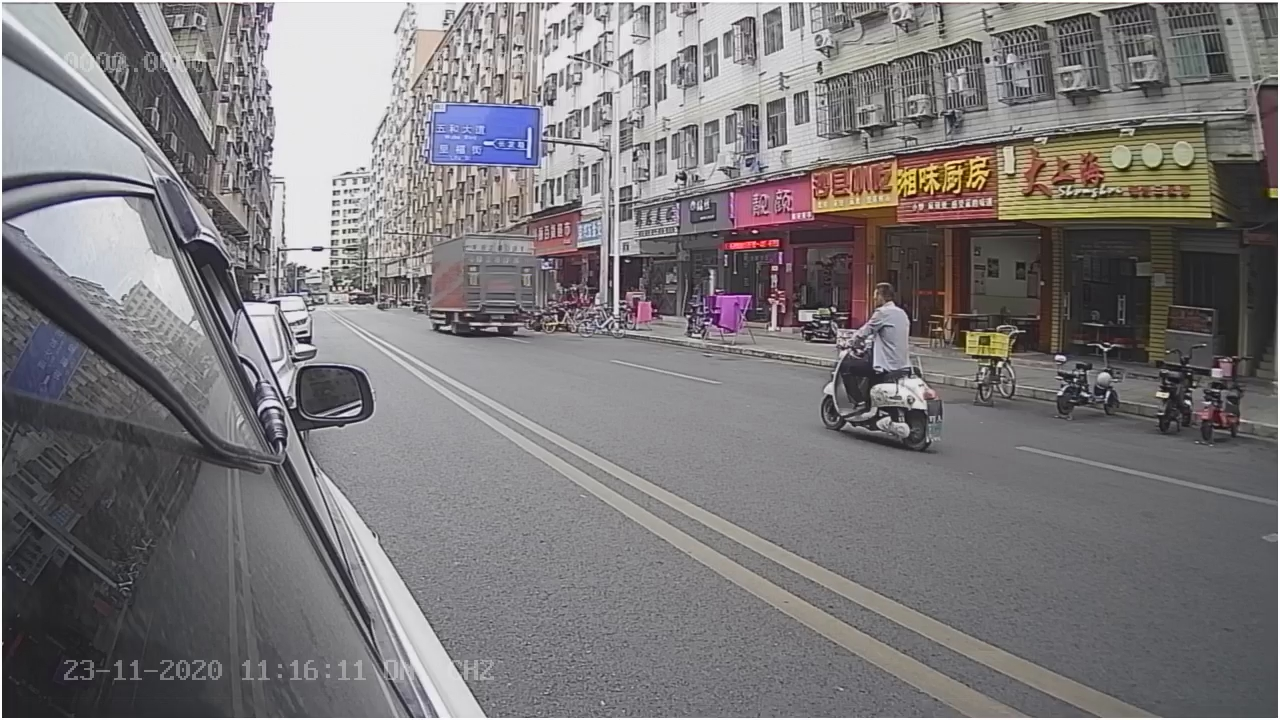person: (859, 280, 917, 373)
